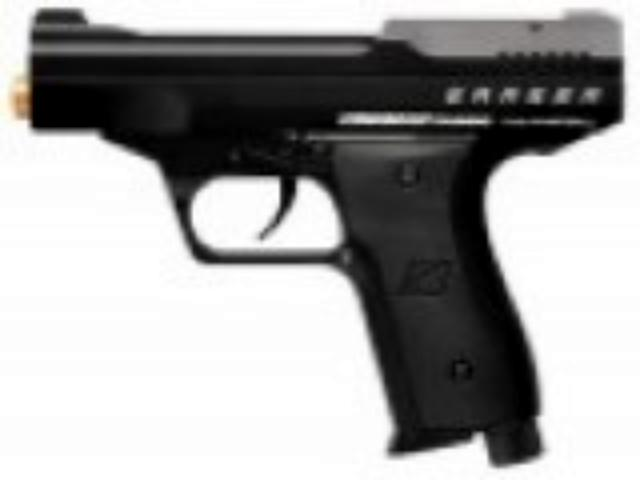pistol: (16, 0, 624, 460)
